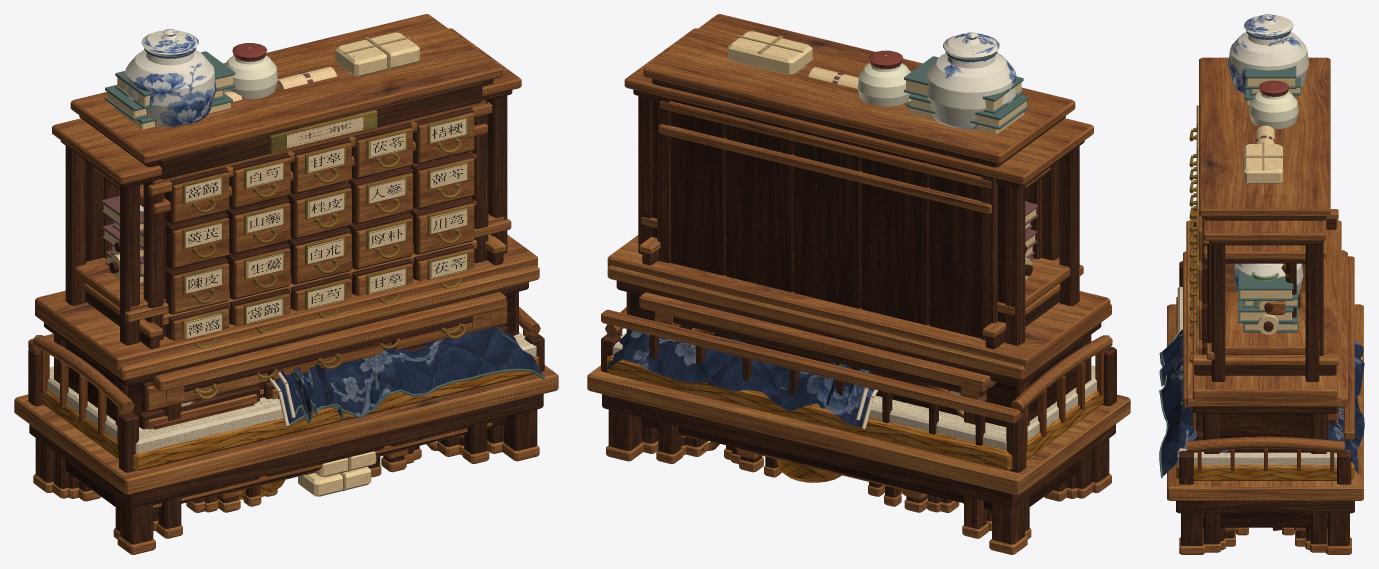
The model's file is interior_joinery.glb.
3 views of the same model, side by side, from view 1: azimuth 30°, elevation 25°; view 2: azimuth 150°, elevation 25°; view 3: azimuth 270°, elevation 25° (orthographic). The views are drawn at different scales.
Visible parts, largest first — view 1: medicine_chest, daybed, herb_shelf, counter, altar, table, bookcase, herb_drying, market_baskets, scroll_press, coffer; view 2: medicine_chest, daybed, herb_shelf, counter, altar, table, herb_drying, bookcase, coffer, market_baskets, scroll_press; view 3: daybed, medicine_chest, herb_shelf, altar, counter, bookcase, herb_drying, table, scroll_press, folding_screen.
Part boxes in pixels (left/top/right/bottom): medicine_chest: left=70, top=14, right=502, bottom=530; daybed: left=14, top=307, right=558, bottom=554; herb_shelf: left=52, top=28, right=521, bottom=510; counter: left=35, top=265, right=539, bottom=509; altar: left=35, top=234, right=537, bottom=539; table: left=151, top=292, right=506, bottom=538; bookcase: left=101, top=51, right=476, bottom=286; herb_drying: left=94, top=123, right=487, bottom=456; market_baskets: left=239, top=451, right=376, bottom=499; scroll_press: left=109, top=65, right=350, bottom=278; coffer: left=217, top=448, right=409, bottom=512; medicine_chest: left=643, top=14, right=1075, bottom=530; daybed: left=587, top=307, right=1130, bottom=554; herb_shelf: left=624, top=28, right=1093, bottom=501; counter: left=607, top=265, right=1111, bottom=509; altar: left=607, top=235, right=1110, bottom=539; table: left=639, top=292, right=996, bottom=538; herb_drying: left=658, top=124, right=1050, bottom=503; bookcase: left=904, top=56, right=1038, bottom=268; coffer: left=734, top=447, right=927, bottom=512; market_baskets: left=776, top=459, right=902, bottom=493; scroll_press: left=795, top=66, right=1032, bottom=280; daybed: left=1159, top=250, right=1364, bottom=554; medicine_chest: left=1189, top=57, right=1330, bottom=363; herb_shelf: left=1203, top=14, right=1326, bottom=546; altar: left=1192, top=209, right=1338, bottom=552; counter: left=1186, top=220, right=1341, bottom=549; bookcase: left=1237, top=66, right=1300, bottom=332; herb_drying: left=1203, top=240, right=1326, bottom=292; table: left=1183, top=251, right=1347, bottom=533; scroll_press: left=1256, top=125, right=1278, bottom=334; folding_screen: left=1273, top=263, right=1296, bottom=530.
Bounding box in the file's own units: 2.04 × 2.12 × 0.9658.
1 material, 1 textured.
